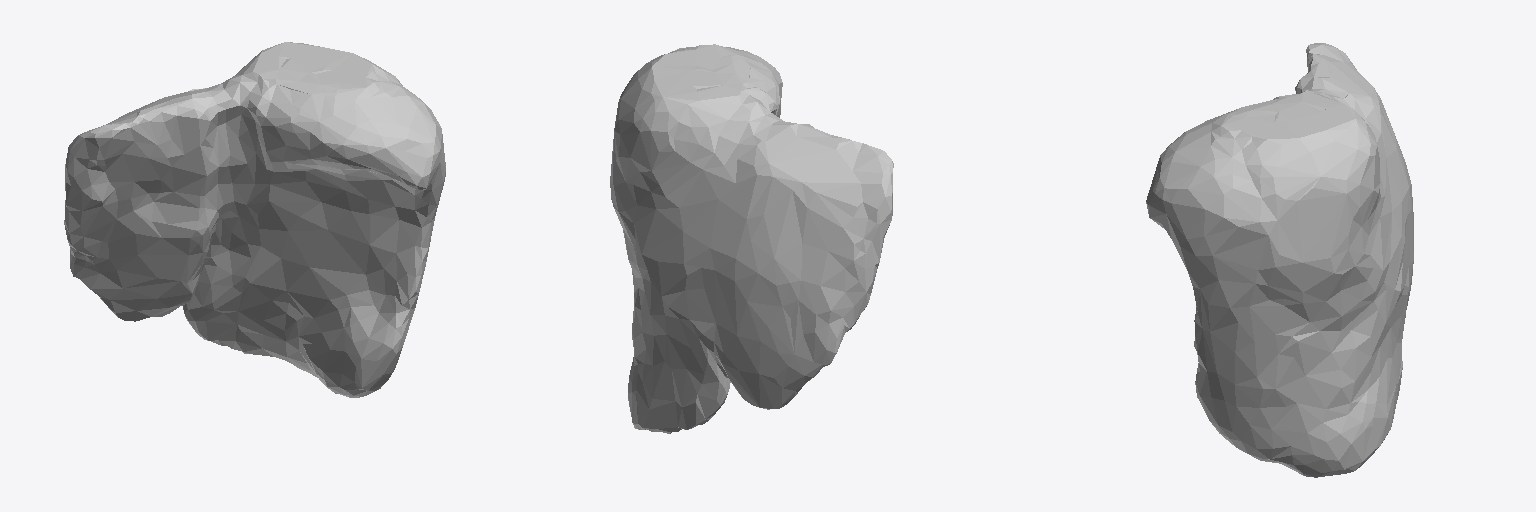
Rendered from KV1_liver_reduced.obj.
The picture shows the model from 3 angles: view 1: azimuth 30°, elevation 25°; view 2: azimuth 150°, elevation 25°; view 3: azimuth 270°, elevation 25°; orthographic projection.
Visible parts, largest first — view 1: Bliver.001; view 2: Bliver.001; view 3: Bliver.001.
Boxes of the visible parts, x1=… form: Bliver.001: x1=64, y1=42, x2=445, y2=397; Bliver.001: x1=610, y1=44, x2=893, y2=433; Bliver.001: x1=1146, y1=43, x2=1413, y2=477.
Size of the model in its own units: 188 by 195 by 139.